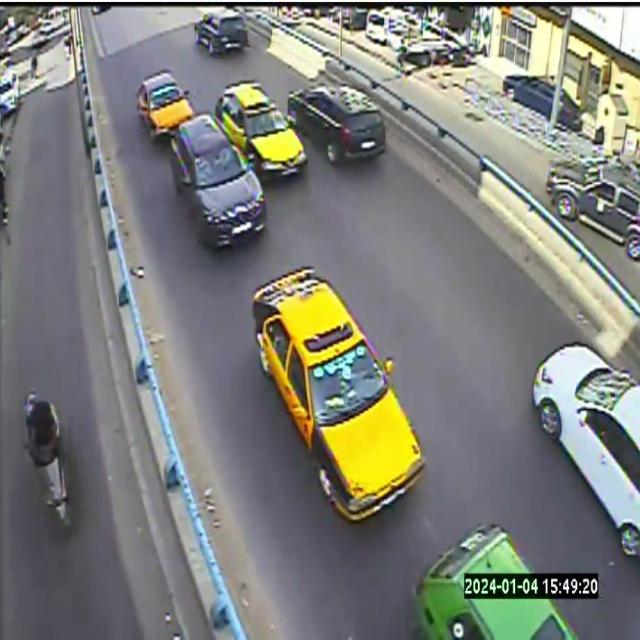car: (253, 267, 424, 520), (533, 344, 639, 555), (414, 525, 577, 639), (171, 115, 266, 246), (215, 83, 306, 176), (287, 84, 385, 165), (136, 72, 193, 139), (195, 7, 248, 55)
